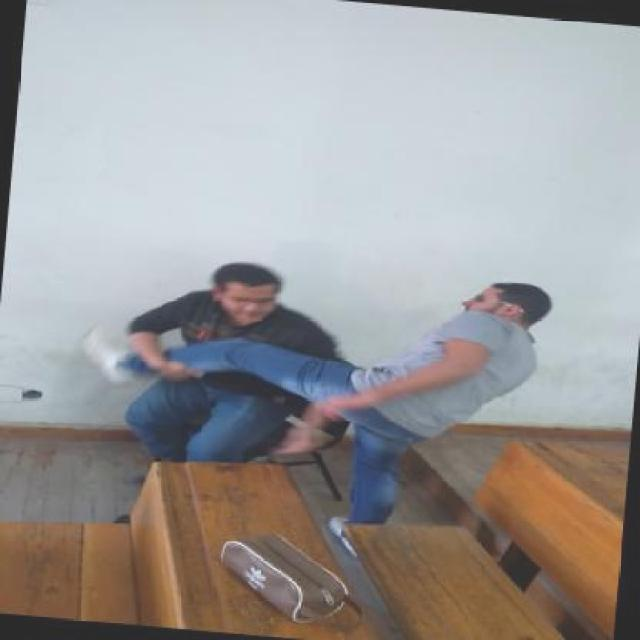fight: (99, 249, 552, 446)
